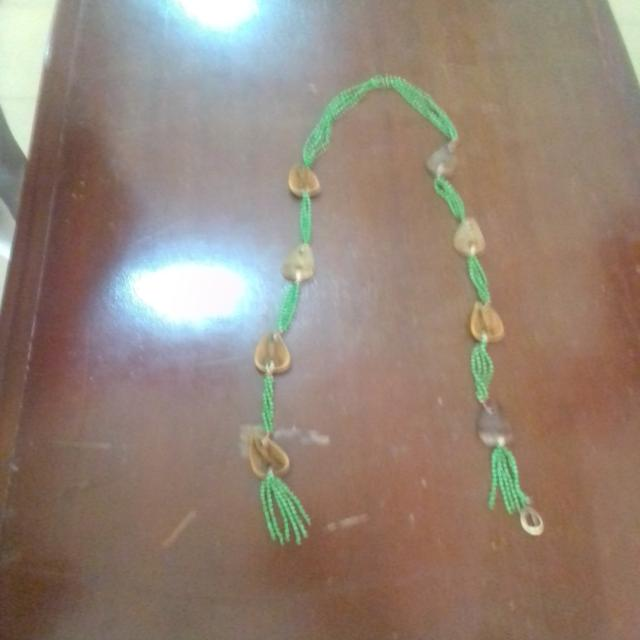facedown: (467, 392, 522, 456), (448, 213, 490, 260), (280, 238, 318, 288), (425, 138, 461, 183)
faceup: (244, 428, 293, 484), (464, 298, 509, 346), (252, 324, 291, 376), (284, 159, 322, 201)
